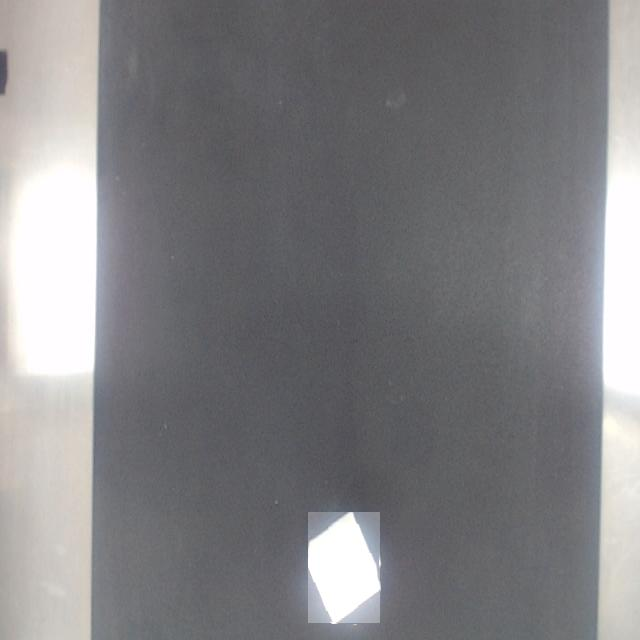Blanco: (309, 513, 380, 623)
